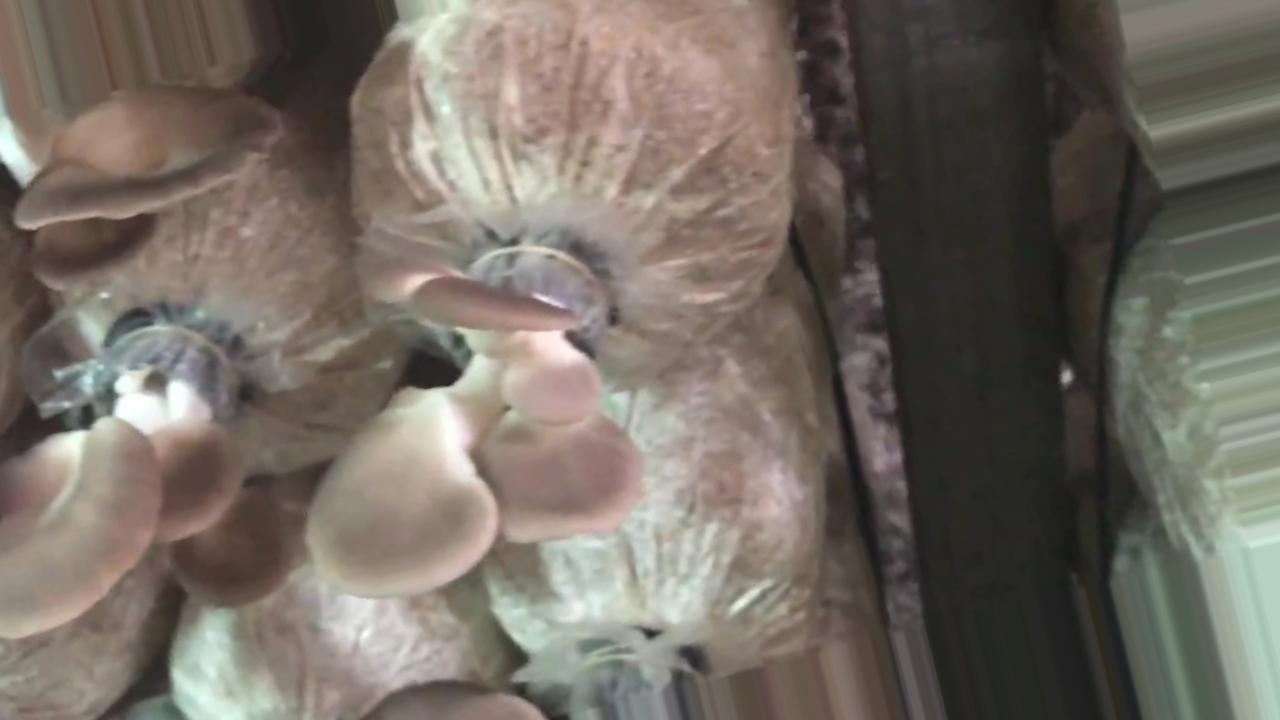nam: (305, 235, 634, 589), (1, 312, 295, 639), (11, 73, 285, 227)
